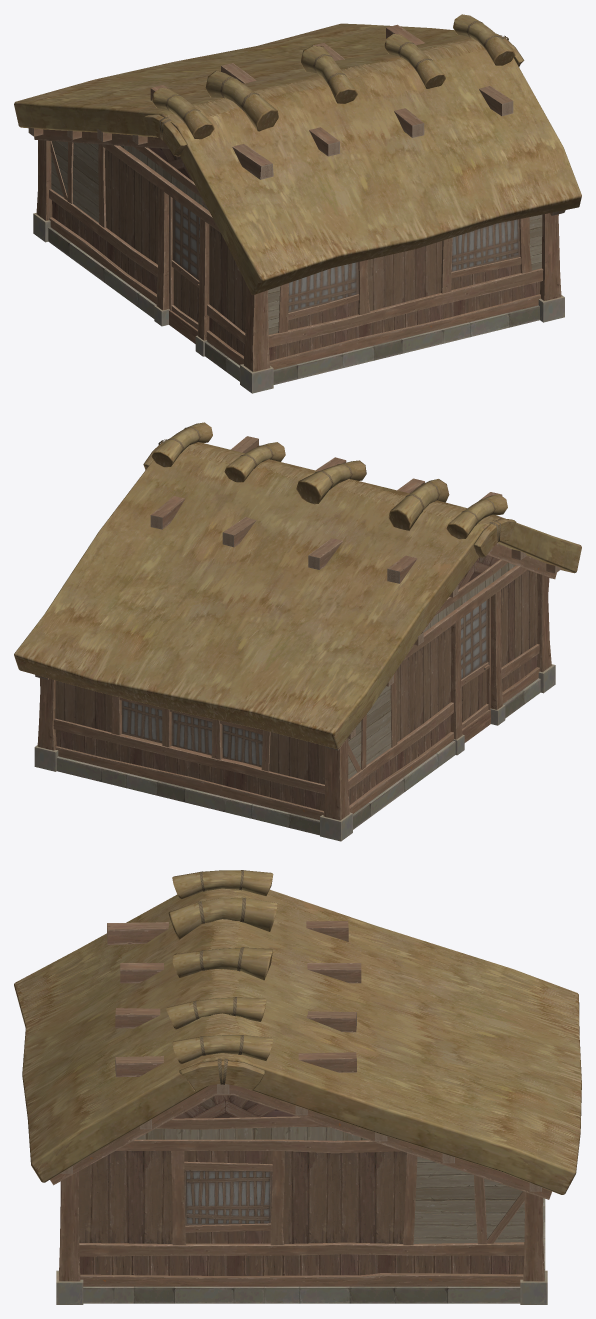
The model's file is Homeworld_Exterior_Dq_Build_House_14_Lod0.fbx.
The picture shows the model from 3 angles, top to bottom: view 1: azimuth 30°, elevation 25°; view 2: azimuth 150°, elevation 25°; view 3: azimuth 270°, elevation 25°; orthographic projection. The views are drawn at different scales.
Visible parts, largest first — view 1: Area_Dq_Build_Common_Maocaowu_03_A_Lod0, Area_Dq_Build_Common_Maocaowu_03_Lod0; view 2: Area_Dq_Build_Common_Maocaowu_03_A_Lod0, Area_Dq_Build_Common_Maocaowu_03_Lod0; view 3: Area_Dq_Build_Common_Maocaowu_03_A_Lod0, Area_Dq_Build_Common_Maocaowu_03_Lod0.
Part boxes in pixels (x1,y1,x2,y2): Area_Dq_Build_Common_Maocaowu_03_A_Lod0: (14,14,581,294); Area_Dq_Build_Common_Maocaowu_03_Lod0: (28,21,565,393); Area_Dq_Build_Common_Maocaowu_03_A_Lod0: (14,422,581,748); Area_Dq_Build_Common_Maocaowu_03_Lod0: (34,426,560,841); Area_Dq_Build_Common_Maocaowu_03_A_Lod0: (14,870,581,1194); Area_Dq_Build_Common_Maocaowu_03_Lod0: (50,870,551,1304).
Size of the model in its own units: 7.53 by 5.02 by 9.56.
